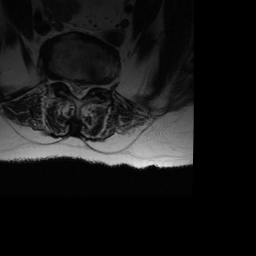CCS_normal: (75, 74, 82, 104)
LFS_stenosis: (91, 78, 98, 96)
LLS_stenosis: (82, 78, 90, 98)
RFS_severe_stenosis: (59, 73, 66, 92)
RLS_normal: (66, 75, 74, 96)
